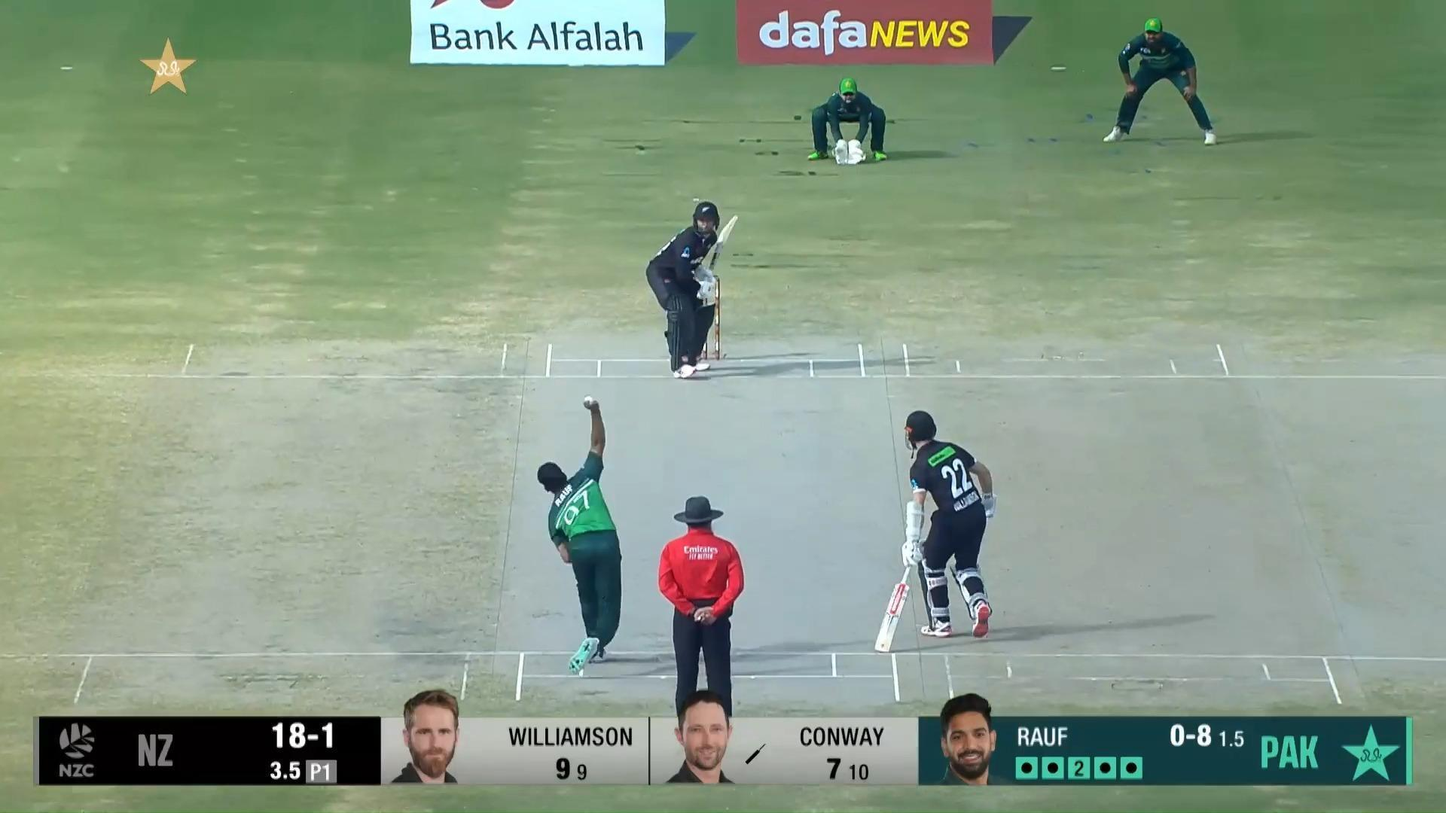BM 1: (646, 200, 740, 380)
BO: (534, 397, 624, 677)
